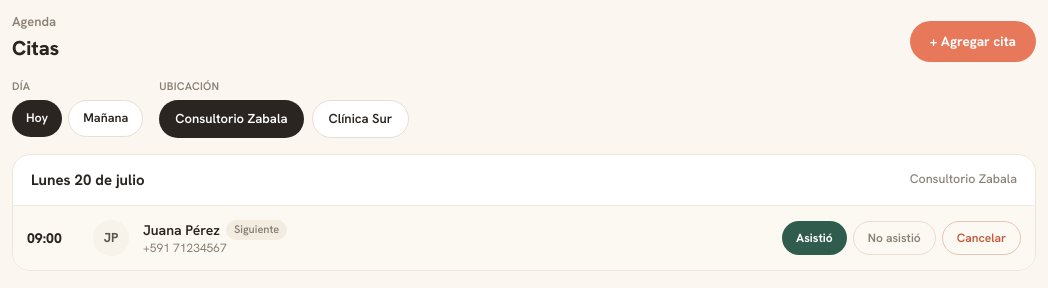
Test: AppointmentsEditor › filters by location
Click the button "Clínica Sur": (360, 119) [312,100,409,138]
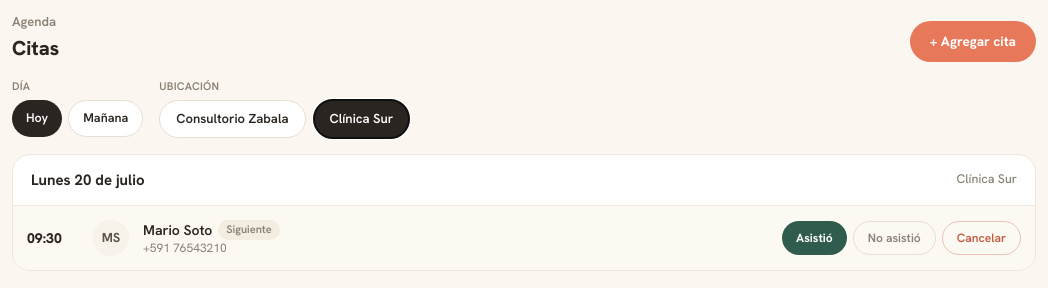
Now the text "Mario Soto" is shown, box [143,221,212,239]
Now the text "Juana Pérez" is gone
